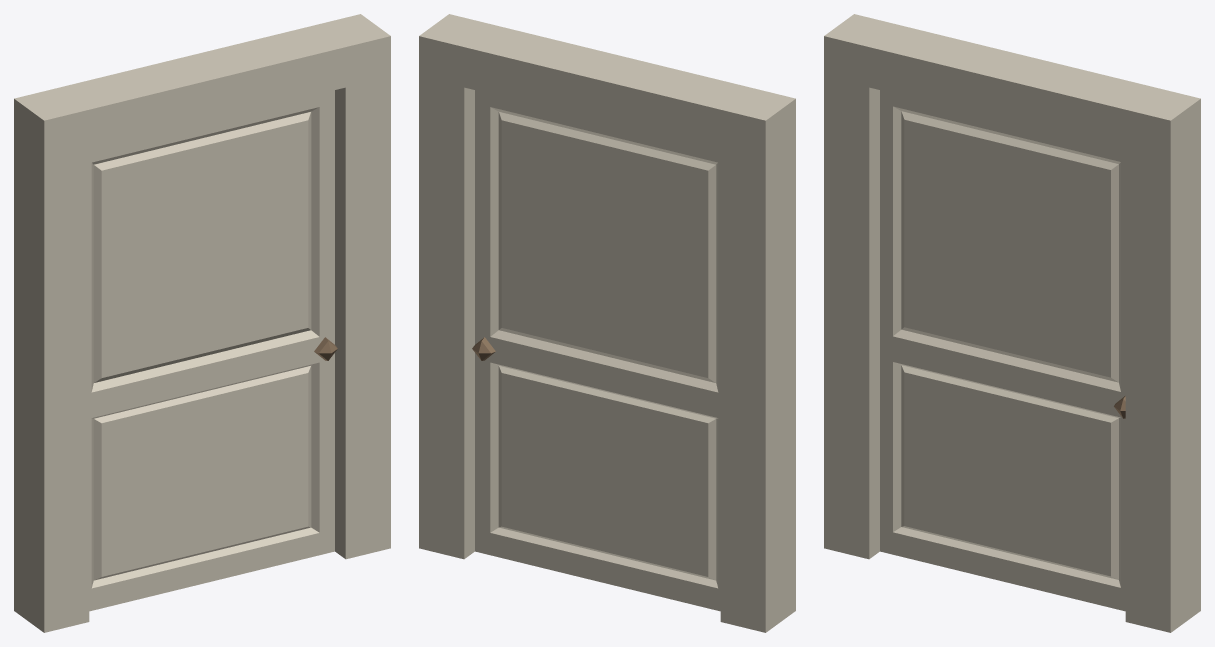
File: Door_2A.fbx
3 renders of one model, left to right at view 1: azimuth 30°, elevation 25°; view 2: azimuth 150°, elevation 25°; view 3: azimuth 330°, elevation 25°, orthographic.
Parts seen in each view (by area): view 1: polySurface1643, polySurface2017; view 2: polySurface1643, polySurface2017; view 3: polySurface1643, polySurface2017.
Part boxes in pixels (x1,y1,x2,y2): polySurface1643: (89,90,337,611); polySurface2017: (14,14,390,632); polySurface1643: (472,90,720,611); polySurface2017: (419,14,795,632); polySurface1643: (880,90,1125,611); polySurface2017: (824,14,1200,632).
Size of the model in its own units: 2.3 by 3.25 by 0.3469.
Materials: 1 (1 with a texture image).
